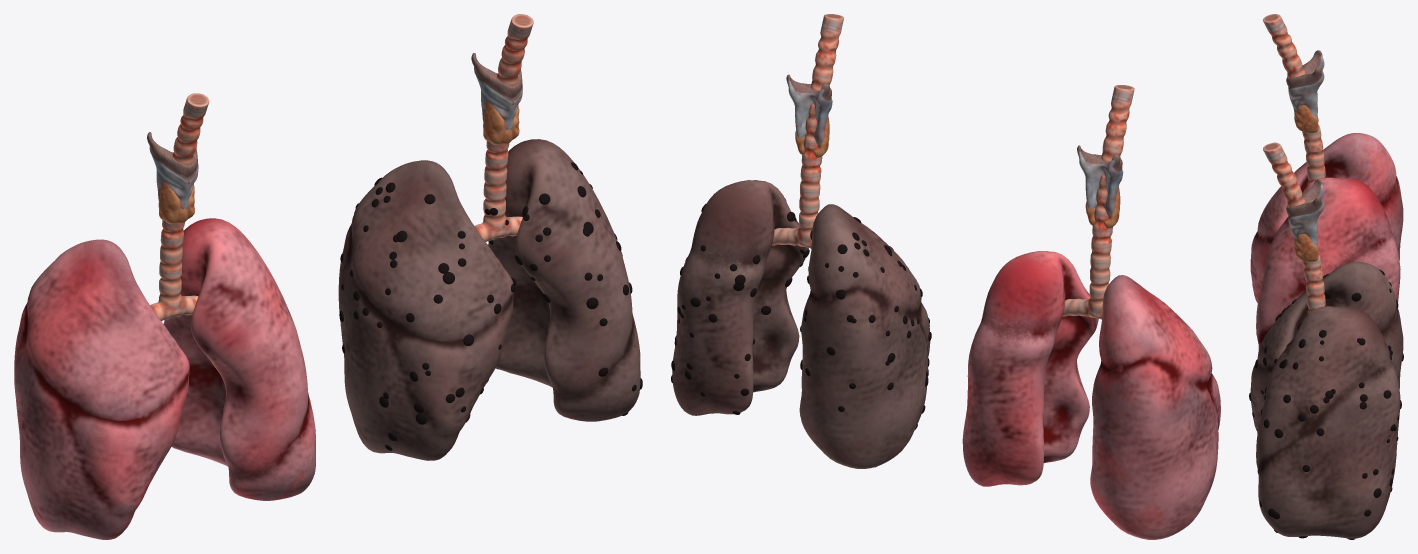
File: lungs-compare.glb
The picture shows the model from 3 angles, left to right: view 1: azimuth 30°, elevation 25°; view 2: azimuth 150°, elevation 25°; view 3: azimuth 270°, elevation 25°; orthographic projection. The views are drawn at different scales.
Visible parts, largest first — view 1: thairoid01:low_part02_Group6344:Group24638_thairoid01:lungh_ (×2), thairoid01:low_part01_Group6344:Group18522_thairoid01:lungh_ (×2), lungs-smoker-add_0; view 2: thairoid01:low_part02_Group6344:Group24638_thairoid01:lungh_ (×2), thairoid01:low_part01_Group6344:Group18522_thairoid01:lungh_ (×2), lungs-smoker-add_0; view 3: thairoid01:low_part02_Group6344:Group24638_thairoid01:lungh_ (×2), thairoid01:low_part01_Group6344:Group18522_thairoid01:lungh_ (×2), lungs-smoker-add_0.
Part boxes in pixels (x1,y1,x2,y2): thairoid01:low_part02_Group6344:Group24638_thairoid01:lungh_ (×2): (14, 139, 640, 539); thairoid01:low_part01_Group6344:Group18522_thairoid01:lungh_ (×2): (147, 14, 533, 320); lungs-smoker-add_0: (339, 162, 642, 450); thairoid01:low_part02_Group6344:Group24638_thairoid01:lungh_ (×2): (672, 180, 1220, 539); thairoid01:low_part01_Group6344:Group18522_thairoid01:lungh_ (×2): (772, 14, 1134, 319); lungs-smoker-add_0: (671, 198, 931, 467); thairoid01:low_part02_Group6344:Group24638_thairoid01:lungh_ (×2): (1250, 133, 1403, 538); thairoid01:low_part01_Group6344:Group18522_thairoid01:lungh_ (×2): (1263, 14, 1325, 313); lungs-smoker-add_0: (1249, 269, 1403, 539).
Size of the model in its own units: 0.3575 by 0.2609 by 0.1016.
Materials: 4 (3 with a texture image).
